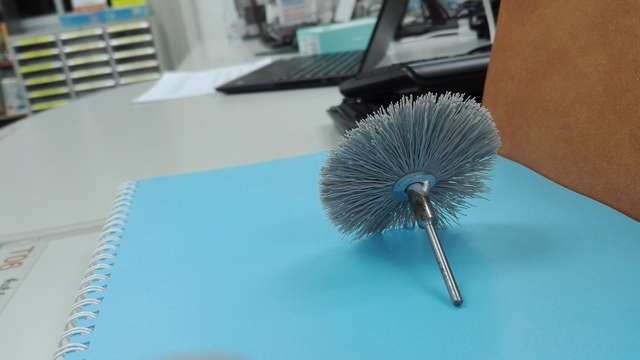TOOL: (260, 28, 482, 301), (312, 90, 545, 288), (324, 82, 532, 287)
